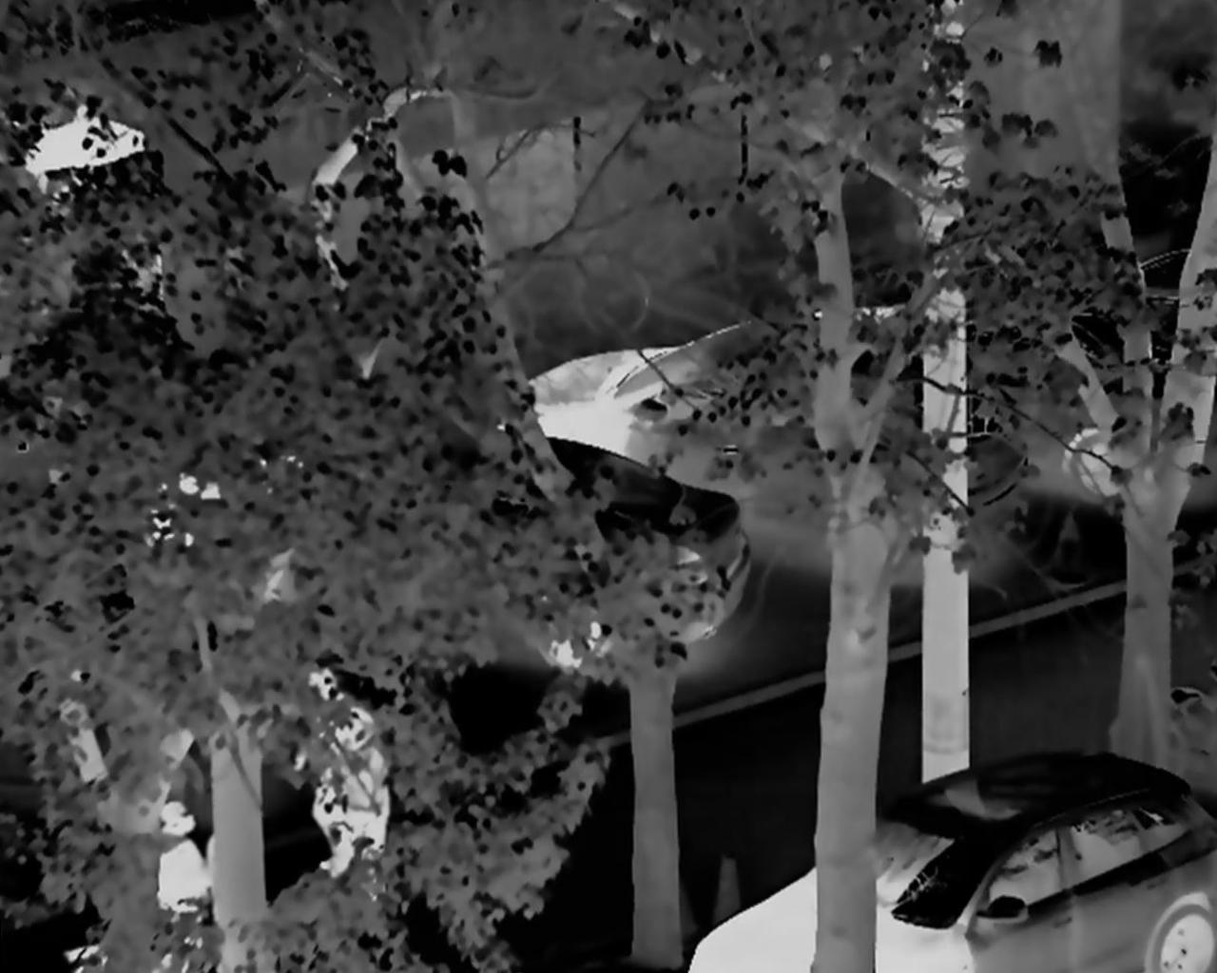person: (289, 653, 379, 894), (327, 698, 395, 955), (145, 794, 220, 955)
